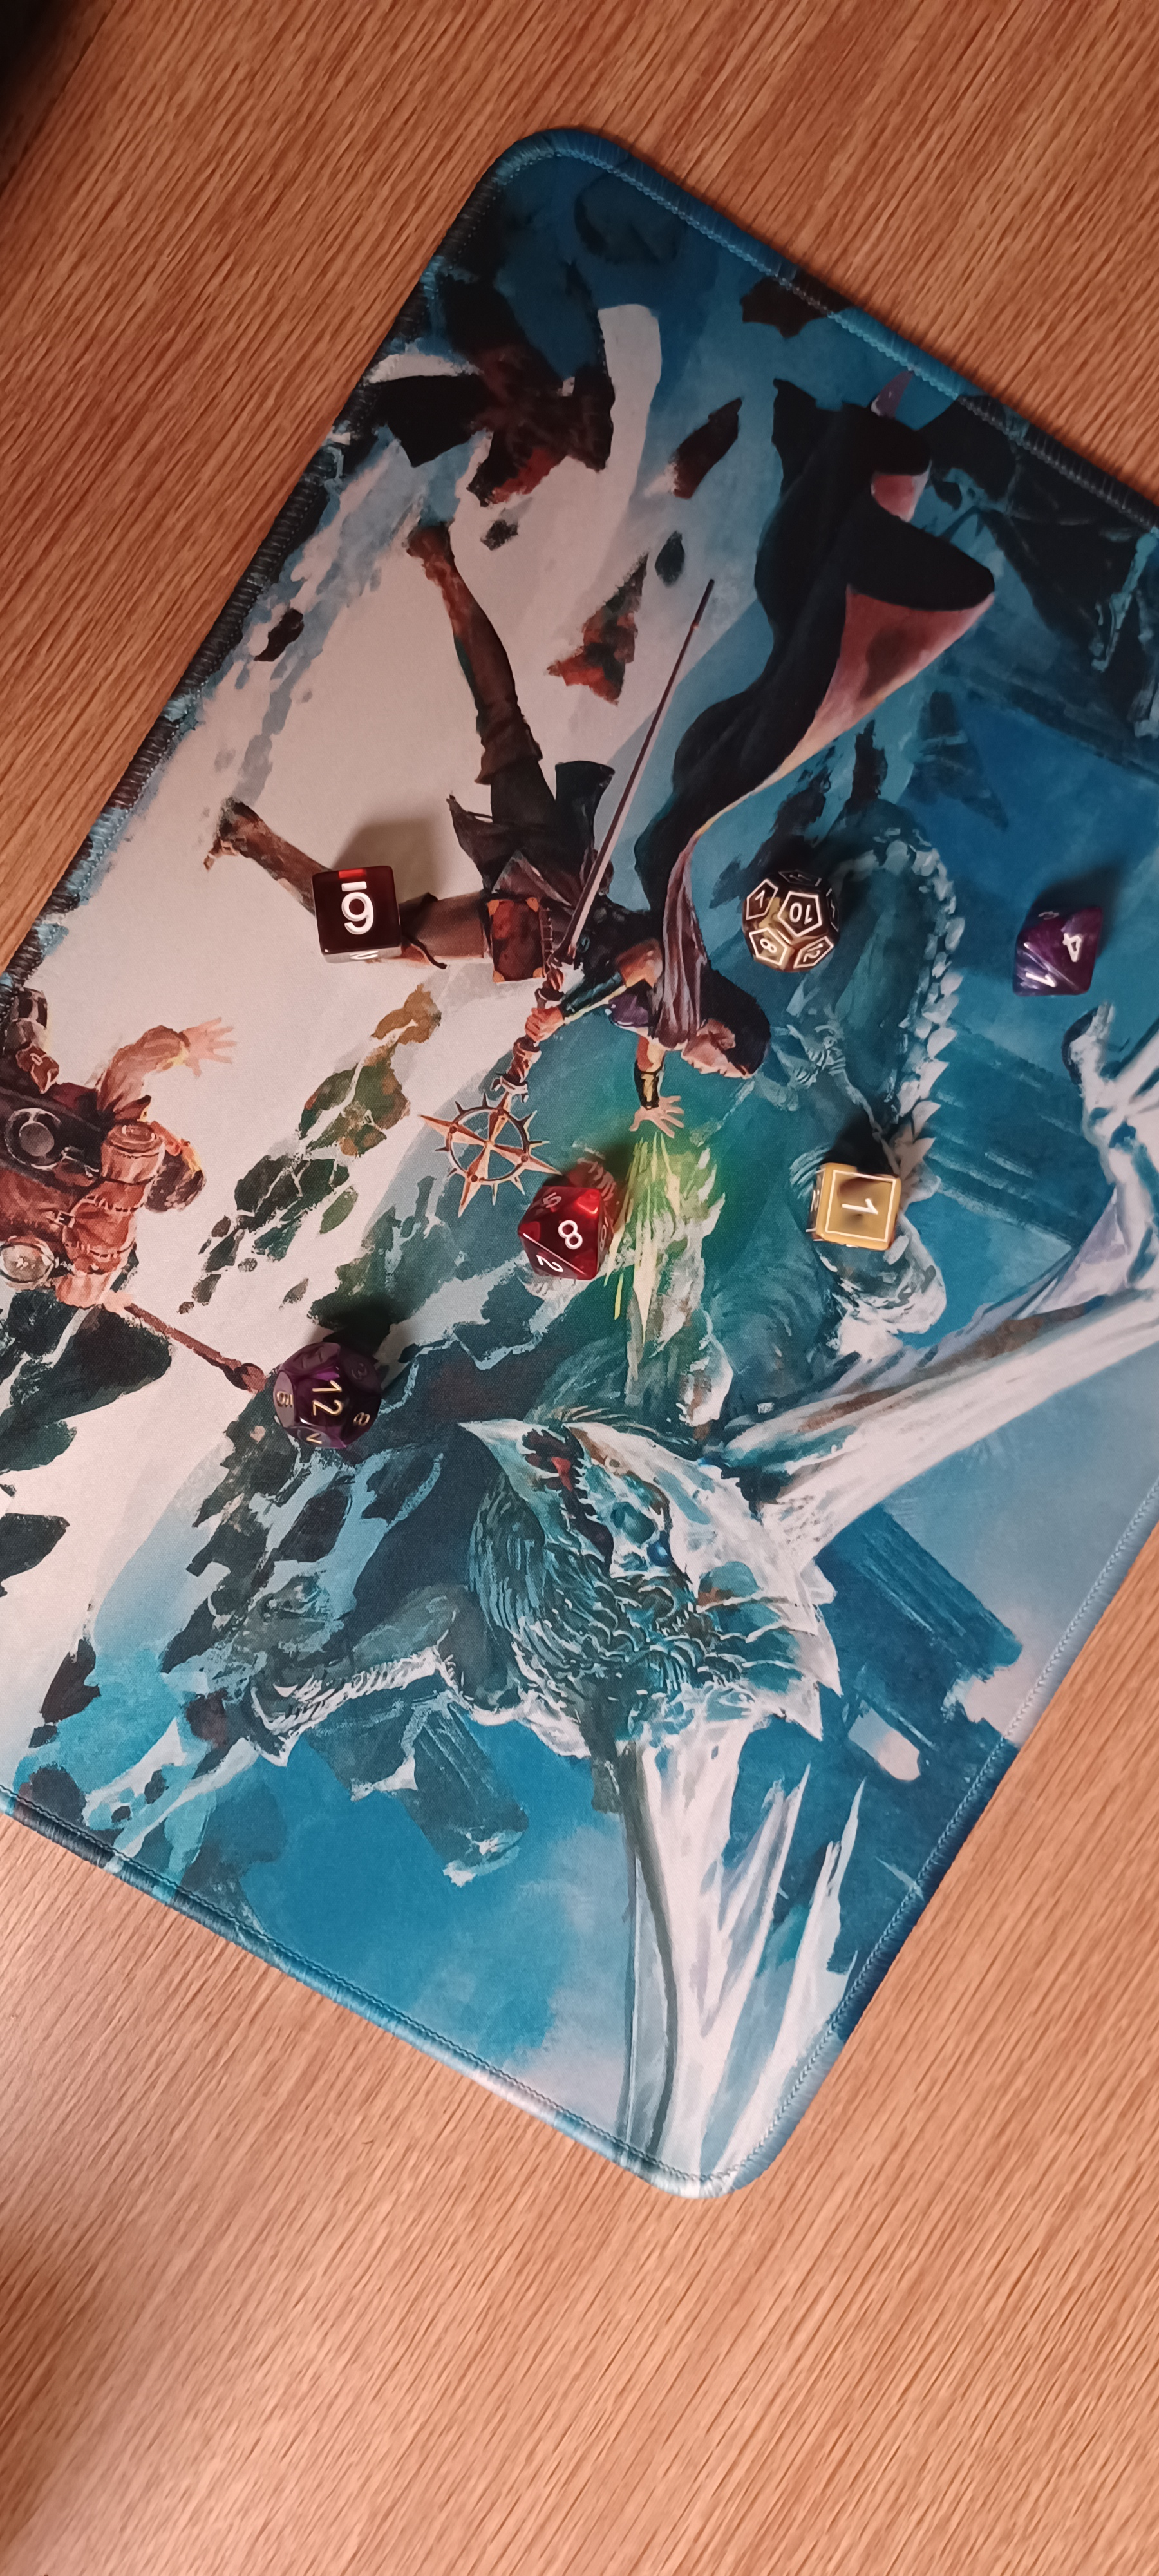eight: (483, 1142, 658, 1316)
four: (967, 884, 1129, 1023)
one: (762, 1119, 931, 1290)
six: (277, 839, 455, 979)
ten: (698, 859, 867, 991)
twelve: (259, 1329, 399, 1487)
